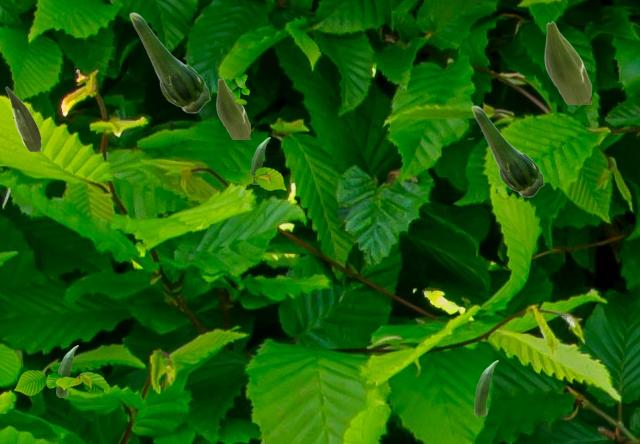okra: (129, 12, 209, 112), (471, 105, 543, 196), (544, 21, 590, 103), (5, 86, 40, 150), (216, 78, 249, 138), (474, 360, 497, 415), (56, 345, 77, 396), (250, 137, 269, 183)
